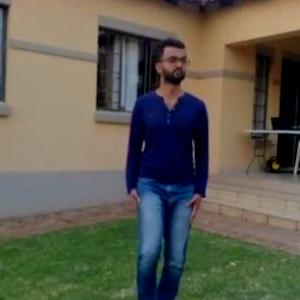follow: (128, 37, 207, 264)
